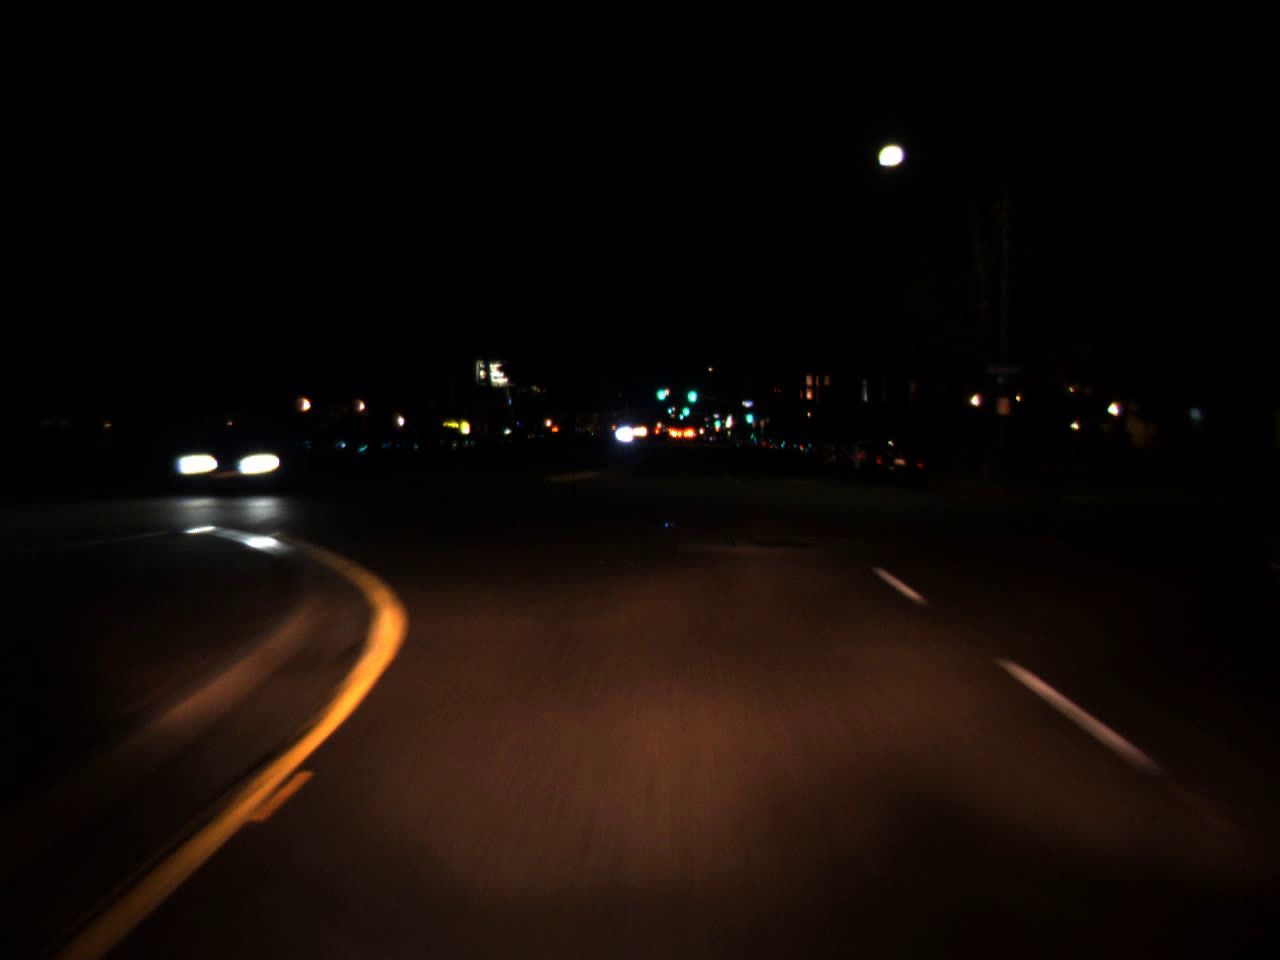go: (684, 377, 698, 407), (654, 377, 666, 404), (663, 394, 675, 418), (680, 396, 689, 419), (743, 406, 752, 424), (714, 413, 721, 428), (677, 408, 684, 419)
